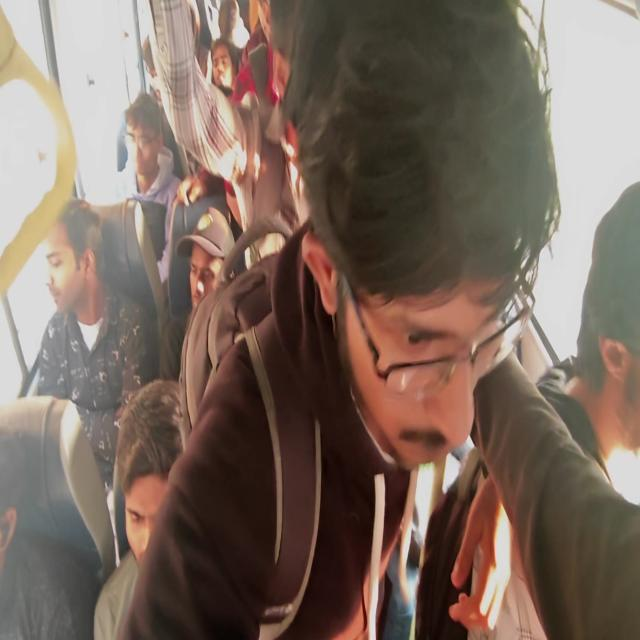person: (303, 28, 531, 520), (575, 159, 640, 526), (112, 389, 191, 541), (44, 187, 130, 321), (173, 215, 235, 324), (7, 388, 31, 576), (121, 104, 173, 175), (140, 32, 180, 97), (212, 37, 235, 84), (216, 0, 242, 31)
